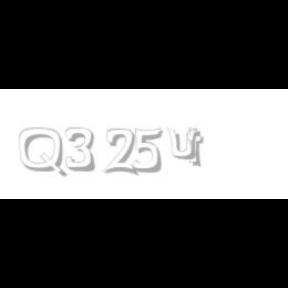2: (103, 128, 137, 176)
3: (66, 128, 96, 172)
5: (132, 128, 162, 174)
Q: (19, 128, 65, 178)
t: (186, 128, 208, 168)
u: (166, 128, 201, 160)
